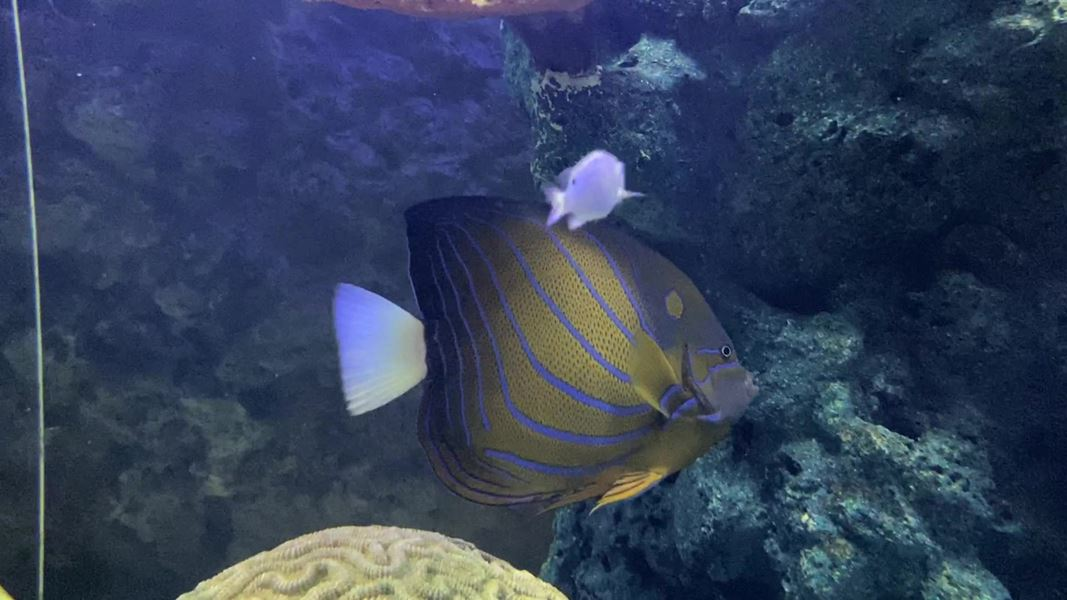Blue ring angelfish: (325, 183, 765, 526)
